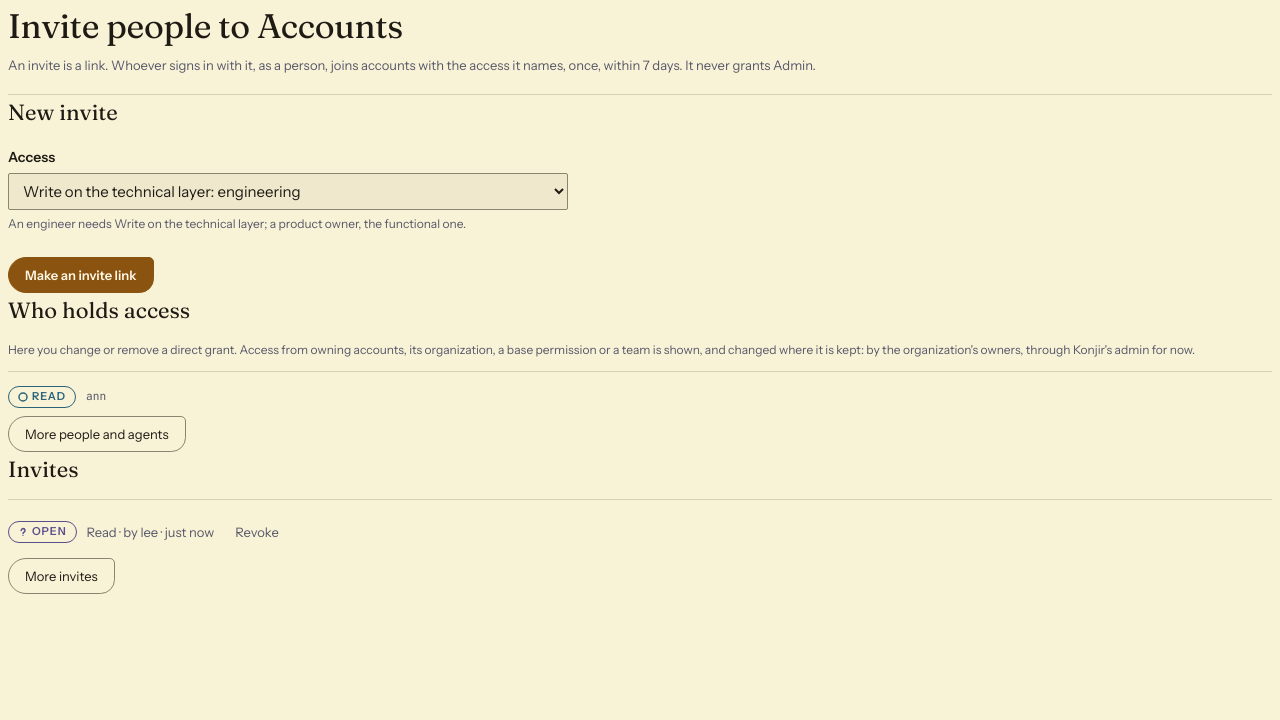
the people page reads more invites and more of who holds access on asking
The width and height of the screenshot is (1280, 720).
Check: the text "ann" is shown, box [86,388,106,406]
Click the button "More people and agents" at [97, 434], box [8,416,186,452]
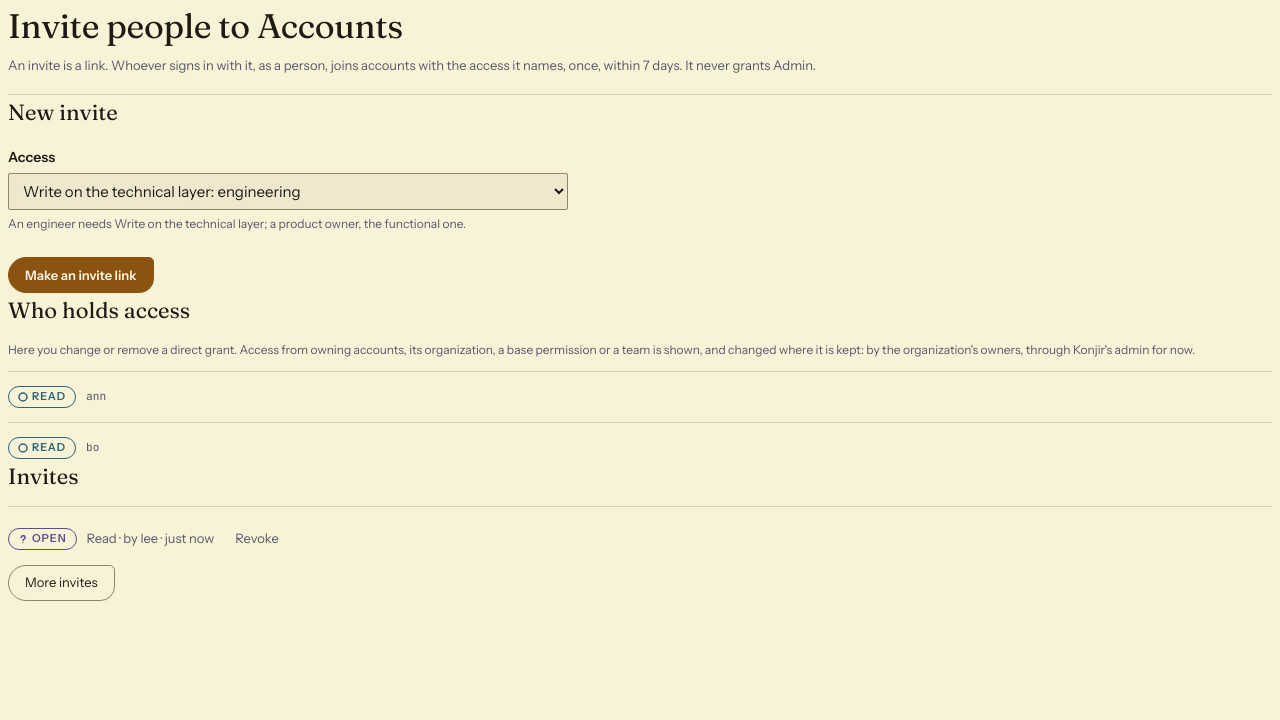
Check: the text "ann" is shown, box [86,388,106,406]
Check: the text "bo" is shown, box [86,439,99,457]
Click the button "More invites" at [61, 583], box [8,565,115,601]
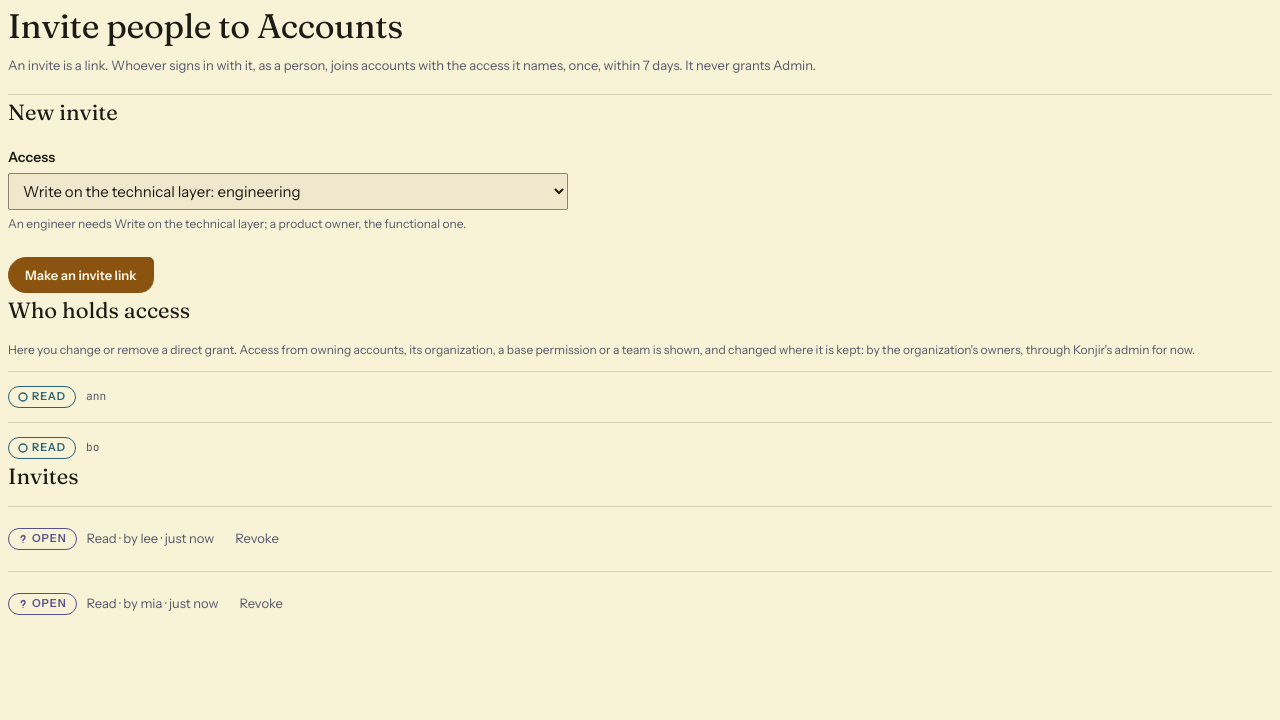
Check: the text "Read · by mia · just now" is shown, box [86,593,218,614]
Check: the button "More invites" is gone
